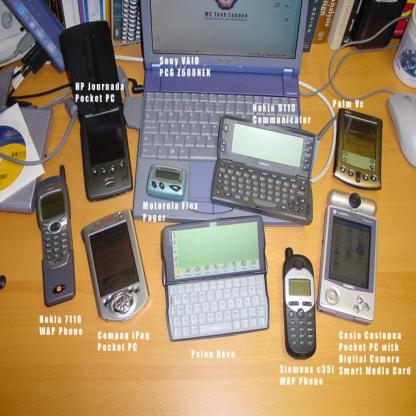board: (130, 1, 314, 221)
